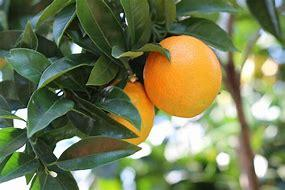orange: (133, 26, 233, 118), (81, 85, 158, 154)
